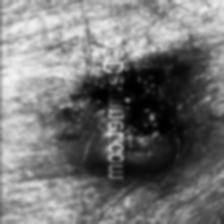Potentially Malignant Skin Tumors: (88, 68, 180, 174)
